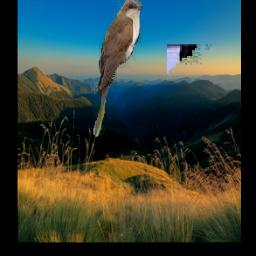Crow: (167, 45, 218, 200)
Cuckoo: (93, 0, 142, 137)
